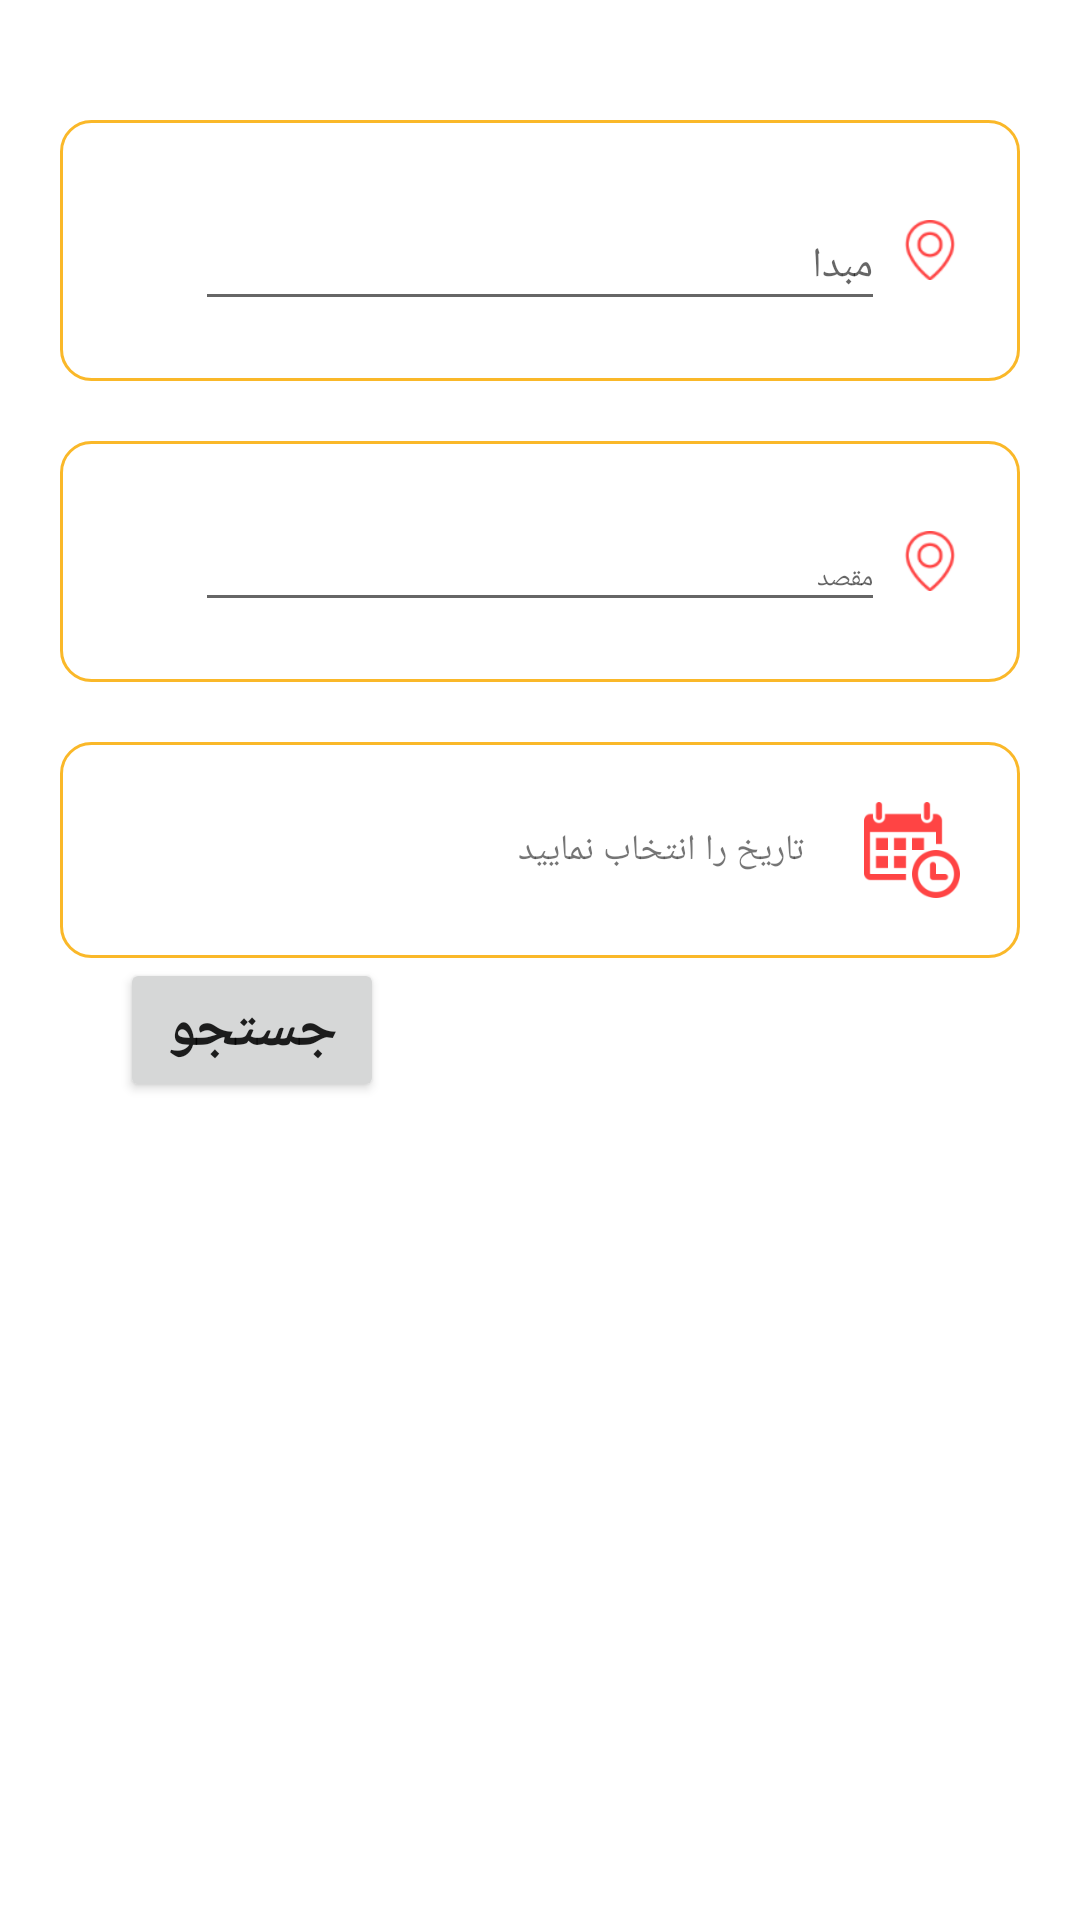

Icons on this 1080w x 1920h Android screen, each with the point to tap as (x=x, y=y):
calendar: (x=912, y=850)
location: (x=930, y=250), (x=930, y=561)
